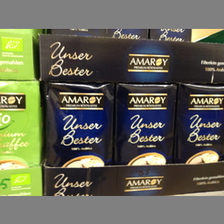coffee: (43, 82, 115, 165), (114, 84, 177, 165), (173, 81, 224, 164)
